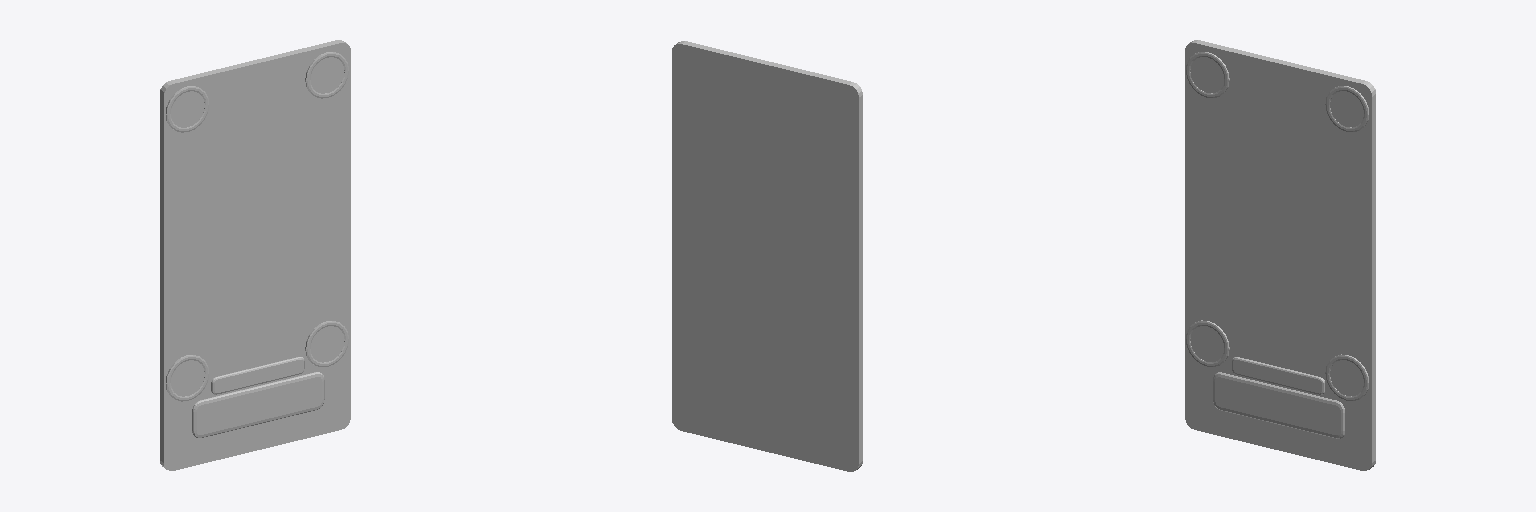
The model's file is Card_base.obj.
3 renders of one model, left to right at view 1: azimuth 30°, elevation 25°; view 2: azimuth 150°, elevation 25°; view 3: azimuth 330°, elevation 25°, orthographic.
Visible parts, largest first — view 1: Card, Plaque polySurface1, polySurface2 Plaque, polySurface6 Mechanics, Mechanics polySurface3, Mechanics polySurface5, Mechanics polySurface4; view 2: Card; view 3: Card, Plaque polySurface1, polySurface2 Plaque, polySurface6 Mechanics, Mechanics polySurface5, Mechanics polySurface4, Mechanics polySurface3.
Part boxes in pixels (left/top/right/bottom): Card: left=160, top=40, right=350, bottom=470; Plaque polySurface1: left=192, top=372, right=324, bottom=437; polySurface2 Plaque: left=211, top=357, right=304, bottom=394; polySurface6 Mechanics: left=166, top=355, right=208, bottom=401; Mechanics polySurface3: left=166, top=86, right=208, bottom=132; Mechanics polySurface5: left=305, top=321, right=348, bottom=366; Mechanics polySurface4: left=305, top=52, right=348, bottom=98; Card: left=672, top=41, right=862, bottom=471; Card: left=1185, top=40, right=1375, bottom=470; Plaque polySurface1: left=1213, top=372, right=1344, bottom=438; polySurface2 Plaque: left=1232, top=357, right=1324, bottom=394; polySurface6 Mechanics: left=1186, top=320, right=1229, bottom=366; Mechanics polySurface5: left=1325, top=354, right=1368, bottom=400; Mechanics polySurface4: left=1325, top=86, right=1368, bottom=131; Mechanics polySurface3: left=1186, top=52, right=1229, bottom=97.
Bounding box in the file's own units: 9.85 × 19.44 × 0.4937.